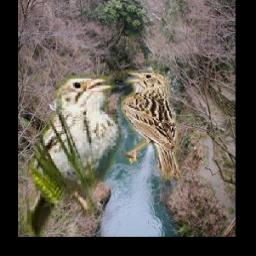Sparrow: (20, 74, 123, 237), (122, 69, 184, 181)
